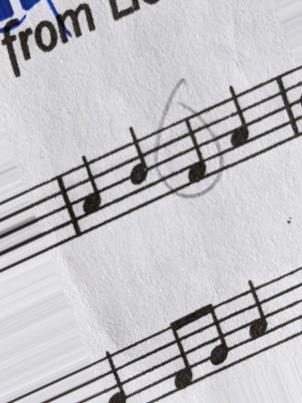note: (68, 150, 105, 237), (237, 277, 274, 360), (174, 113, 212, 192), (120, 122, 152, 212), (221, 83, 254, 164)
